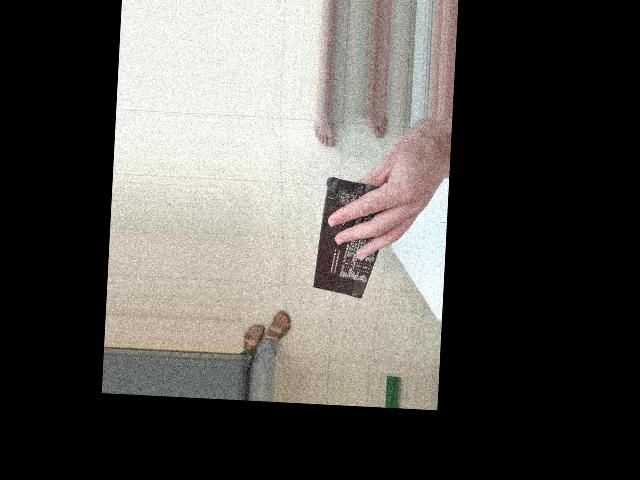chocolate: (241, 226, 369, 310)
